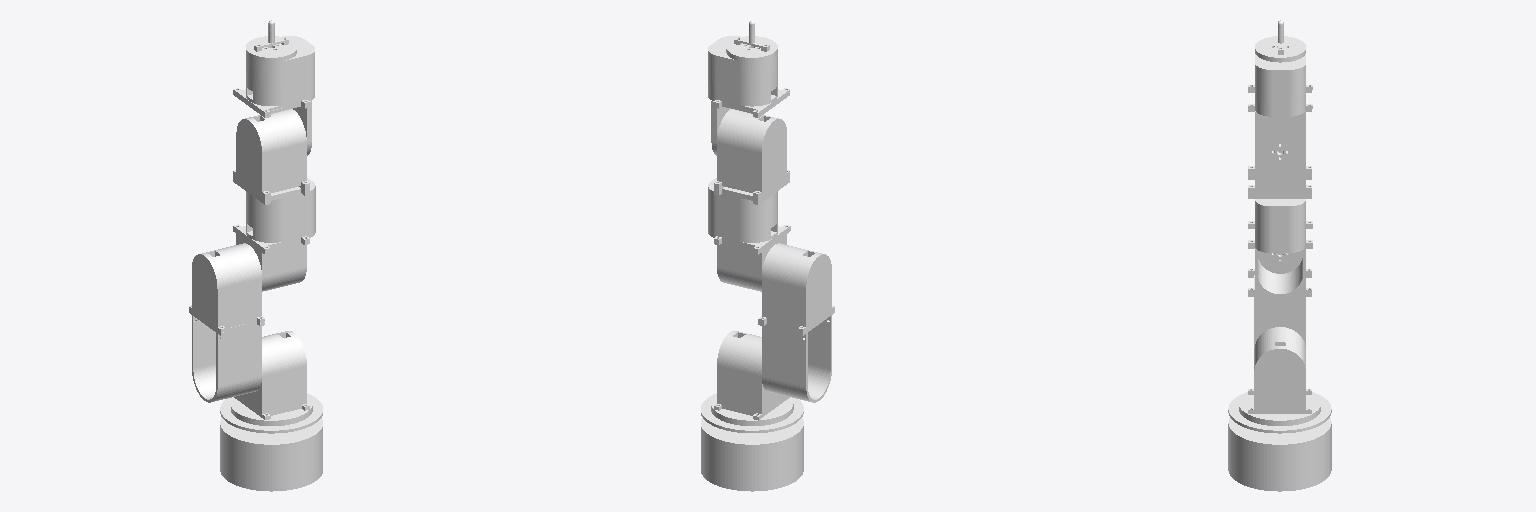
URDF robot description (manipulator):
<?xml version="1.0" ?>
<!-- =================================================================================== -->
<!-- |    This document was autogenerated by xacro from 6dof_manipulator.xacro         | -->
<!-- |    EDITING THIS FILE BY HAND IS NOT RECOMMENDED                                 | -->
<!-- =================================================================================== -->
<robot name="manipulator">
  <material name="white">
    <color rgba="1.0 1.0 1.0 1.000"/>
  </material>

  <gazebo reference="base_link">
    <material>Gazebo/White</material>
  </gazebo>
  <gazebo reference="link_1_1">
    <material>Gazebo/White</material>
  </gazebo>
  <gazebo reference="link_2_1">
    <material>Gazebo/White</material>
  </gazebo>
  <gazebo reference="link_3_1">
    <material>Gazebo/White</material>
  </gazebo>
  <gazebo reference="link_4_1">
    <material>Gazebo/White</material>
  </gazebo>
  <gazebo reference="link_5_1">
    <material>Gazebo/White</material>
  </gazebo>
  <gazebo reference="link_6_1">
    <material>Gazebo/White</material>
  </gazebo>
  <link name="world"></link>
  <joint name="base_joint" type="fixed">
    <origin rpy="0 0 0" xyz="0.0 0.0 0.0"/>
    <parent link="world"/>
    <child link="base_link"/>
  </joint>
  <link name="base_link">
    <inertial>
      <origin xyz="-7.295026833610489e-13 0.00010550764230433382 0.0246125319938844" rpy="0 0 0"/>
      <mass value="2.1649980446638213"/>
      <inertia ixx="0.004793" iyy="0.004798" izz="0.007227" ixy="0.0" iyz="2e-06" ixz="-0.0"/>
    </inertial>
    <visual>
      <origin xyz="0 0 0" rpy="0 0 0"/>
      <geometry>
        <mesh filename="package://manipulator_6dof_description/meshes/base_link.stl" scale="0.001 0.001 0.001"/>
      </geometry>
      <material name="white"/>
    </visual>
    <collision>
      <origin xyz="0 0 0" rpy="0 0 0"/>
      <geometry>
        <mesh filename="package://manipulator_6dof_description/meshes/base_link.stl" scale="0.001 0.001 0.001"/>
      </geometry>
    </collision>
  </link>

  <link name="link_1_1">
    <inertial>
      <origin xyz="0.003470462191355766 0.00013682029127464138 0.028443076641690046" rpy="0 0 0"/>
      <mass value="1.044429977886197"/>
      <inertia ixx="0.000963" iyy="0.00091" izz="0.000689" ixy="-0.0" iyz="-2e-06" ixz="-5.1e-05"/>
    </inertial>
    <visual>
      <origin xyz="-0.0 0.0 -0.062" rpy="0 0 0"/>
      <geometry>
        <mesh filename="package://manipulator_6dof_description/meshes/link_1_1.stl" scale="0.001 0.001 0.001"/>
      </geometry>
      <material name="white"/>
    </visual>
    <collision>
      <origin xyz="-0.0 0.0 -0.062" rpy="0 0 0"/>
      <geometry>
        <mesh filename="package://manipulator_6dof_description/meshes/link_1_1.stl" scale="0.001 0.001 0.001"/>
      </geometry>
    </collision>
  </link>

  <link name="link_2_1">
    <inertial>
      <origin xyz="-0.026722953125703865 0.00013326397239950415 0.06739644020751422" rpy="0 0 0"/>
      <mass value="1.0723019224070052"/>
      <inertia ixx="0.002051" iyy="0.001984" izz="0.000559" ixy="0.0" iyz="-3e-06" ixz="0.000178"/>
    </inertial>
    <visual>
      <origin xyz="0.025 -0.0002 -0.116" rpy="0 0 0"/>
      <geometry>
        <mesh filename="package://manipulator_6dof_description/meshes/link_2_1.stl" scale="0.001 0.001 0.001"/>
      </geometry>
      <material name="white"/>
    </visual>
    <collision>
      <origin xyz="0.025 -0.0002 -0.116" rpy="0 0 0"/>
      <geometry>
        <mesh filename="package://manipulator_6dof_description/meshes/link_2_1.stl" scale="0.001 0.001 0.001"/>
      </geometry>
    </collision>
  </link>

  <link name="link_3_1">
    <inertial>
      <origin xyz="0.0312627075493882 1.3193656236976103e-15 0.03703539841440315" rpy="0 0 0"/>
      <mass value="0.8938660668299434"/>
      <inertia ixx="0.000796" iyy="0.000904" izz="0.000594" ixy="0.0" iyz="0.0" ixz="-0.000128"/>
    </inertial>
    <visual>
      <origin xyz="0.025 -0.0004 -0.221" rpy="0 0 0"/>
      <geometry>
        <mesh filename="package://manipulator_6dof_description/meshes/link_3_1.stl" scale="0.001 0.001 0.001"/>
      </geometry>
      <material name="white"/>
    </visual>
    <collision>
      <origin xyz="0.025 -0.0004 -0.221" rpy="0 0 0"/>
      <geometry>
        <mesh filename="package://manipulator_6dof_description/meshes/link_3_1.stl" scale="0.001 0.001 0.001"/>
      </geometry>
    </collision>
  </link>

  <link name="link_4_1">
    <inertial>
      <origin xyz="-0.004361142167998326 3.1864701849348975e-16 0.033501841180729575" rpy="0 0 0"/>
      <mass value="0.8311251067189291"/>
      <inertia ixx="0.000659" iyy="0.000604" izz="0.000381" ixy="0.0" iyz="-0.0" ixz="2.9e-05"/>
    </inertial>
    <visual>
      <origin xyz="0.0 -0.0004 -0.301" rpy="0 0 0"/>
      <geometry>
        <mesh filename="package://manipulator_6dof_description/meshes/link_4_1.stl" scale="0.001 0.001 0.001"/>
      </geometry>
      <material name="white"/>
    </visual>
    <collision>
      <origin xyz="0.0 -0.0004 -0.301" rpy="0 0 0"/>
      <geometry>
        <mesh filename="package://manipulator_6dof_description/meshes/link_4_1.stl" scale="0.001 0.001 0.001"/>
      </geometry>
    </collision>
  </link>

  <link name="link_5_1">
    <inertial>
      <origin xyz="-0.012340892698794424 0.00015120168831259242 0.05231129430932063" rpy="0 0 0"/>
      <mass value="0.8431959857300293"/>
      <inertia ixx="0.000683" iyy="0.000786" izz="0.000514" ixy="0.0" iyz="-1e-06" ixz="8.4e-05"/>
    </inertial>
    <visual>
      <origin xyz="-0.025 -0.0004 -0.354" rpy="0 0 0"/>
      <geometry>
        <mesh filename="package://manipulator_6dof_description/meshes/link_5_1.stl" scale="0.001 0.001 0.001"/>
      </geometry>
      <material name="white"/>
    </visual>
    <collision>
      <origin xyz="-0.025 -0.0004 -0.354" rpy="0 0 0"/>
      <geometry>
        <mesh filename="package://manipulator_6dof_description/meshes/link_5_1.stl" scale="0.001 0.001 0.001"/>
      </geometry>
    </collision>
  </link>

  <link name="link_6_1">
    <inertial>
      <origin xyz="-1.5272053280057805e-14 1.3695641842836892e-15 0.0038944720792071785" rpy="0 0 0"/>
      <mass value="0.08319729963947381"/>
      <inertia ixx="1.4e-05" iyy="1.5e-05" izz="2.5e-05" ixy="-0.0" iyz="0.0" ixz="-0.0"/>
    </inertial>
    <visual>
      <origin xyz="0.0 -0.0006 -0.447" rpy="0 0 0"/>
      <geometry>
        <mesh filename="package://manipulator_6dof_description/meshes/link_6_1.stl" scale="0.001 0.001 0.001"/>
      </geometry>
      <material name="white"/>
    </visual>
    <collision>
      <origin xyz="0.0 -0.0006 -0.447" rpy="0 0 0"/>
      <geometry>
        <mesh filename="package://manipulator_6dof_description/meshes/link_6_1.stl" scale="0.001 0.001 0.001"/>
      </geometry>
    </collision>
  </link>

  <joint name="revolute1" type="revolute">
    <origin xyz="0.0 0.0 0.062" rpy="0 0 0"/>
    <parent link="base_link"/>
    <child link="link_1_1"/>
    <axis xyz="0.0 0.0 1.0"/>
    <limit effort="10" lower="-3.14" upper="3.14" velocity="20.0" />
  </joint>

  <joint name="revolute2" type="revolute">
    <origin xyz="-0.025 0.0002 0.054" rpy="0 0 0"/>
    <parent link="link_1_1"/>
    <child link="link_2_1"/>
    <axis xyz="1.0 0.0 0.0"/>
    <limit effort="10" lower="-3.14" upper="3.14" velocity="20.0" />
  </joint>

  <joint name="revolute3" type="revolute">
    <origin xyz="0.0 0.0002 0.105" rpy="0 0 0"/>
    <parent link="link_2_1"/>
    <child link="link_3_1"/>
    <axis xyz="1.0 -0.0 0.0"/>
    <limit effort="10" lower="-3.14" upper="3.14" velocity="20.0" />
  </joint>

  <joint name="revolute4" type="revolute">
    <origin xyz="0.025 0.0 0.08" rpy="0 0 0"/>
    <parent link="link_3_1"/>
    <child link="link_4_1"/>
    <axis xyz="-0.0 0.0 1.0"/>
    <limit effort="10" lower="-3.14" upper="3.14" velocity="20.0" />
  </joint>

  <joint name="revolute5" type="revolute">
    <origin xyz="0.025 0.0 0.053" rpy="0 0 0"/>
    <parent link="link_4_1"/>
    <child link="link_5_1"/>
    <axis xyz="1.0 0.0 0.0"/>
    <limit effort="10" lower="-3.14" upper="3.14" velocity="20.0" />
  </joint>

  <joint name="revolute6" type="revolute">
    <origin xyz="-0.025 0.0002 0.093" rpy="0 0 0"/>
    <parent link="link_5_1"/>
    <child link="link_6_1"/>
    <axis xyz="-0.0 -0.0 1.0"/>
    <limit effort="10" lower="-3.14" upper="3.14" velocity="20.0" />
  </joint>
</robot>

--- Render facts (derived) ---
Views: 3 orthographic renders of the robot side by side, from view 1: azimuth 30°, elevation 25°; view 2: azimuth 150°, elevation 25°; view 3: azimuth 270°, elevation 25°.
Model manipulator with 8 links and 7 joints (6 revolute, 1 fixed), rooted at world, posed all joints at 0.
Links seen in each view (by area): view 1: link_2_1, link_1_1, base_link, link_4_1, link_3_1, link_5_1, link_6_1; view 2: link_2_1, link_1_1, base_link, link_4_1, link_3_1, link_5_1, link_6_1; view 3: link_1_1, base_link, link_5_1, link_3_1, link_2_1, link_4_1, link_6_1.
Link boxes in pixels (box(x1,y1,x2,y2)): link_2_1: box(189, 243, 264, 402); link_1_1: box(220, 331, 322, 433); base_link: box(220, 418, 322, 491); link_4_1: box(233, 109, 309, 204); link_3_1: box(233, 178, 315, 291); link_5_1: box(233, 36, 314, 155); link_6_1: box(246, 20, 296, 62); link_2_1: box(758, 243, 834, 402); link_1_1: box(701, 331, 803, 432); base_link: box(701, 417, 803, 491); link_4_1: box(714, 109, 789, 204); link_3_1: box(708, 178, 790, 291); link_5_1: box(708, 36, 789, 155); link_6_1: box(726, 21, 777, 62); link_1_1: box(1228, 327, 1331, 433); base_link: box(1228, 418, 1331, 491); link_5_1: box(1248, 54, 1312, 174); link_3_1: box(1248, 199, 1312, 296); link_2_1: box(1248, 253, 1311, 347); link_4_1: box(1248, 149, 1311, 198); link_6_1: box(1255, 20, 1305, 62).
Size in the robot's own frame: 0.125 by 0.1 by 0.48 metres.
7 mesh visuals loaded from 7 distinct referenced files (7 binary STL).